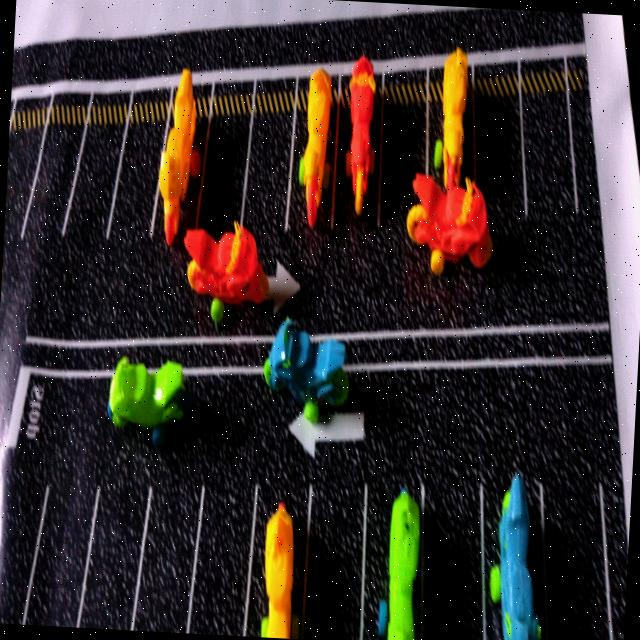bikes: (407, 158, 493, 275), (265, 318, 349, 424), (184, 221, 269, 322), (108, 358, 193, 446)
occupied: (480, 472, 550, 640), (360, 476, 425, 640), (151, 69, 211, 246), (246, 482, 310, 638), (285, 68, 340, 231), (333, 56, 379, 225), (429, 48, 479, 191)
slots: (27, 473, 97, 627), (544, 475, 609, 640), (188, 476, 254, 635), (304, 463, 363, 640), (81, 475, 148, 630), (243, 80, 295, 273), (134, 478, 198, 633), (424, 480, 483, 640), (62, 120, 124, 264), (109, 117, 167, 249), (475, 88, 525, 240), (522, 82, 576, 221), (25, 118, 84, 244), (198, 101, 250, 239), (0, 469, 45, 624), (381, 73, 426, 224), (4, 126, 43, 245)
